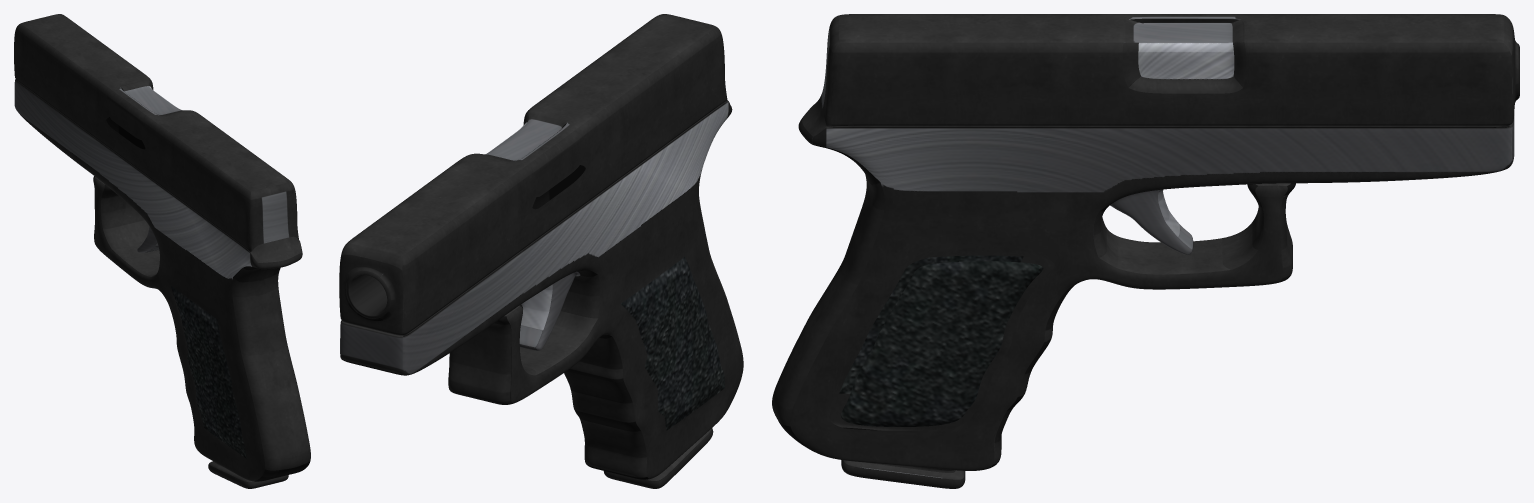
File: glock.obj
The picture shows the model from 3 angles, left to right: view 1: azimuth 30°, elevation 25°; view 2: azimuth 150°, elevation 25°; view 3: azimuth 270°, elevation 25°; orthographic projection. The views are drawn at different scales.
Parts seen in each view (by area): view 1: Cube_Cube.001; view 2: Cube_Cube.001; view 3: Cube_Cube.001.
Boxes of the visible parts, left/top/right/bottom form: Cube_Cube.001: left=14, top=14, right=310, bottom=488; Cube_Cube.001: left=339, top=14, right=743, bottom=488; Cube_Cube.001: left=772, top=14, right=1519, bottom=488.
Size of the model in its own units: 1.22 by 6.48 by 9.77.
1 material, 1 textured.
